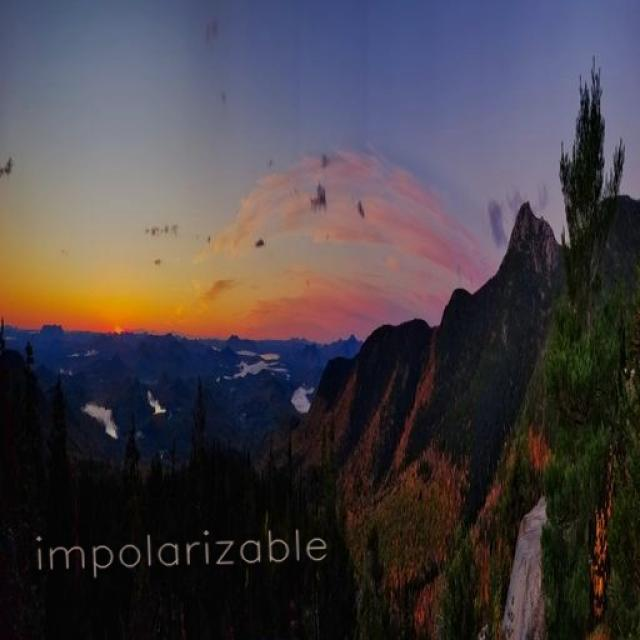watermark: (23, 526, 329, 577)
